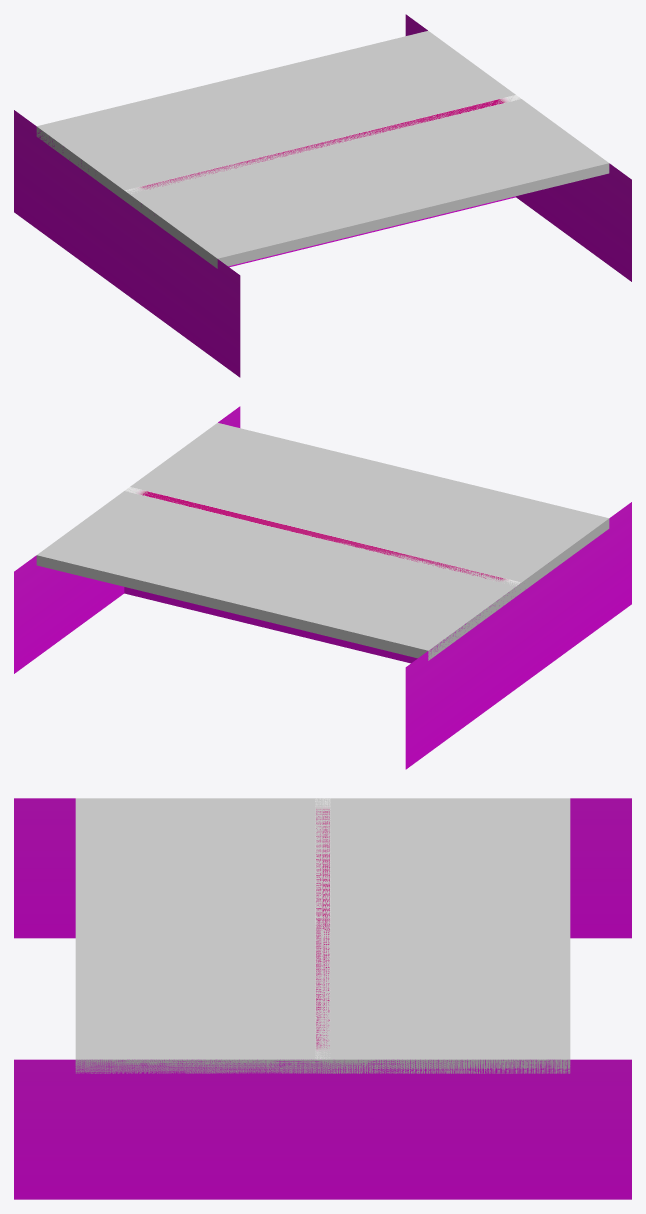
Rendered from Platform6.fbx.
3 views of the same model, one above another, from view 1: azimuth 30°, elevation 25°; view 2: azimuth 150°, elevation 25°; view 3: azimuth 270°, elevation 25° (orthographic). The views are drawn at different scales.
Parts seen in each view (by area): view 1: Square, WALL, TOP; view 2: Square, WALL, TOP; view 3: Square, WALL, TOP.
Part boxes in pixels (<box>): Square: <box>36,30,609,268</box>; WALL: <box>14,14,631,377</box>; TOP: <box>124,95,520,193</box>; Square: <box>36,422,609,660</box>; WALL: <box>14,406,631,769</box>; TOP: <box>125,487,520,586</box>; Square: <box>75,798,570,1073</box>; WALL: <box>14,798,631,1199</box>; TOP: <box>315,798,330,1059</box>.
Size of the model in its own units: 4 by 1 by 4.
2 materials, 2 textured.
